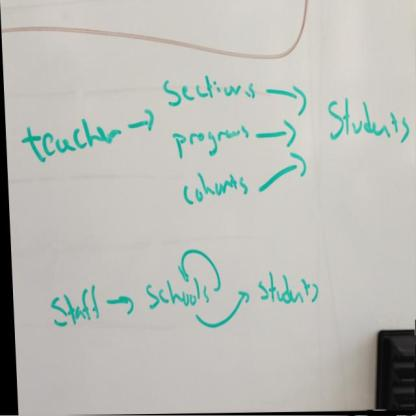Handwritten text: (145, 272, 322, 320), (18, 110, 131, 185), (328, 91, 411, 165), (164, 66, 265, 118), (34, 275, 107, 332), (171, 121, 260, 167), (179, 170, 252, 212)
Whiteboard: (5, 0, 416, 416)
